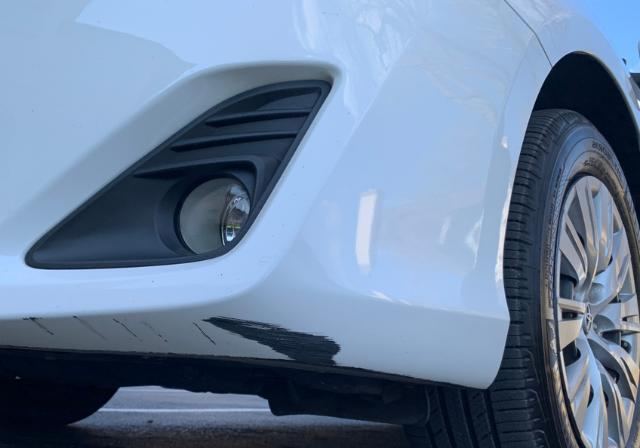Bumper: (20, 285, 370, 377)
